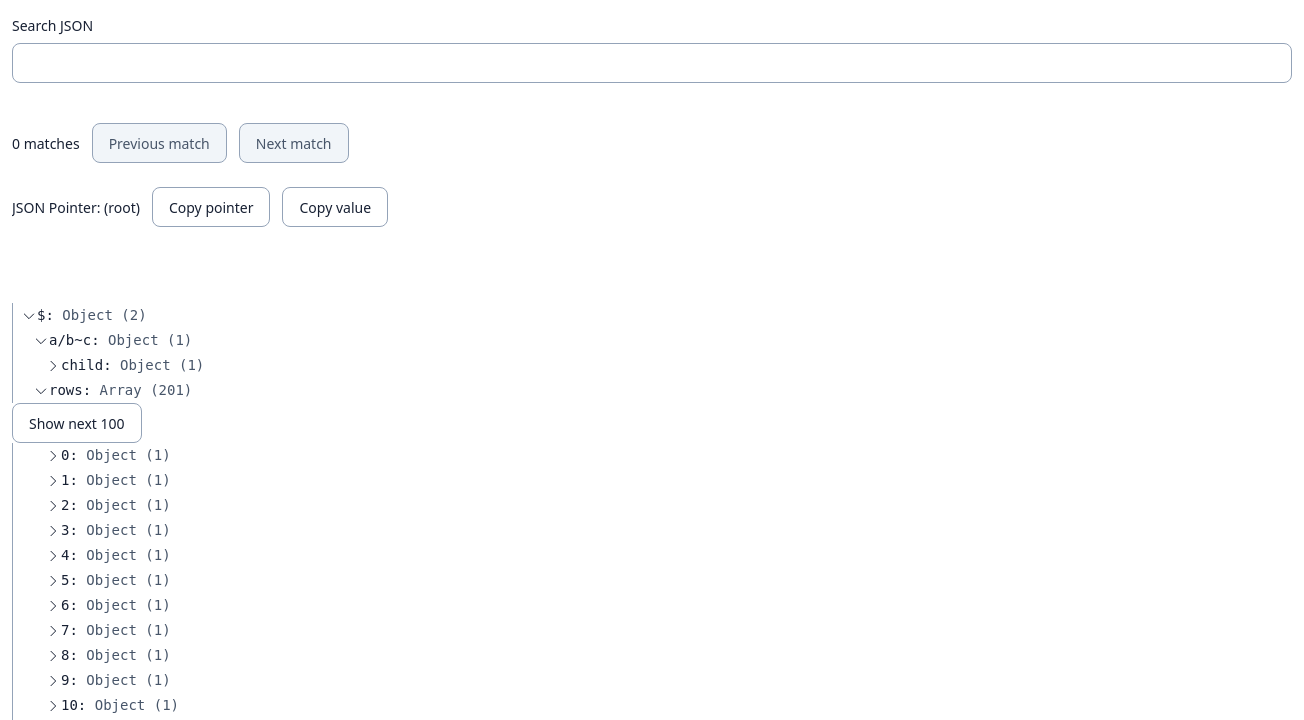
Test case: JsonTree › optionally opens top-level containers while keeping deeper descendants lazy and arrays capped
Click the list item "rows: Array (201)": (652, 390) [12,378,1292,403]
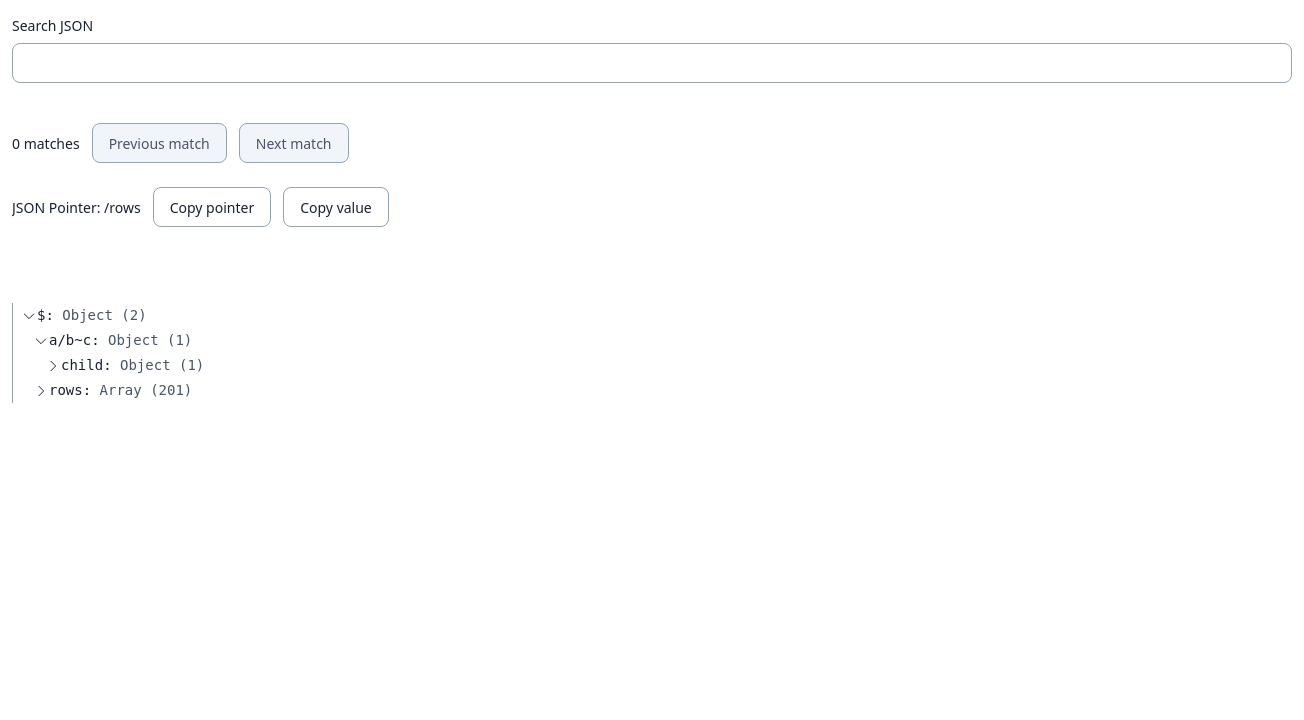
Click the list item "rows: Array (201)": (652, 390) [12,378,1292,403]
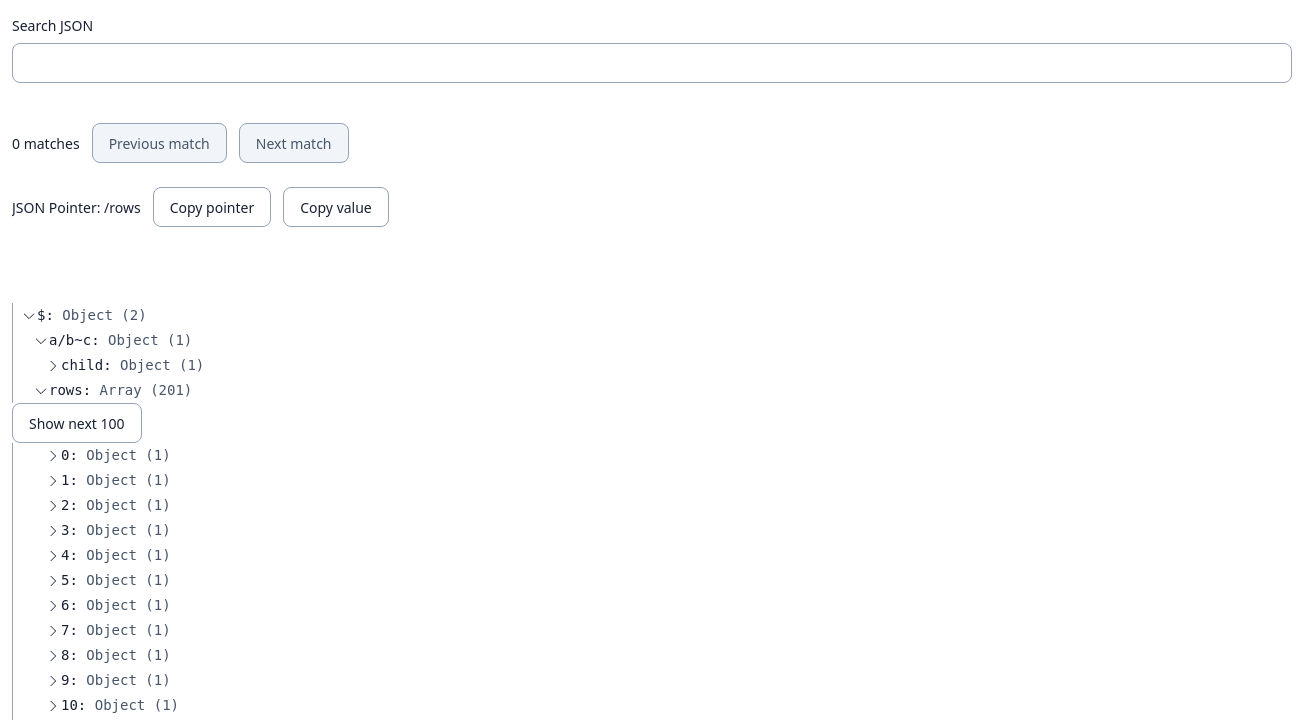
Click the button "Show next 100": (77, 423) [12,403,142,443]
(page scrolled)
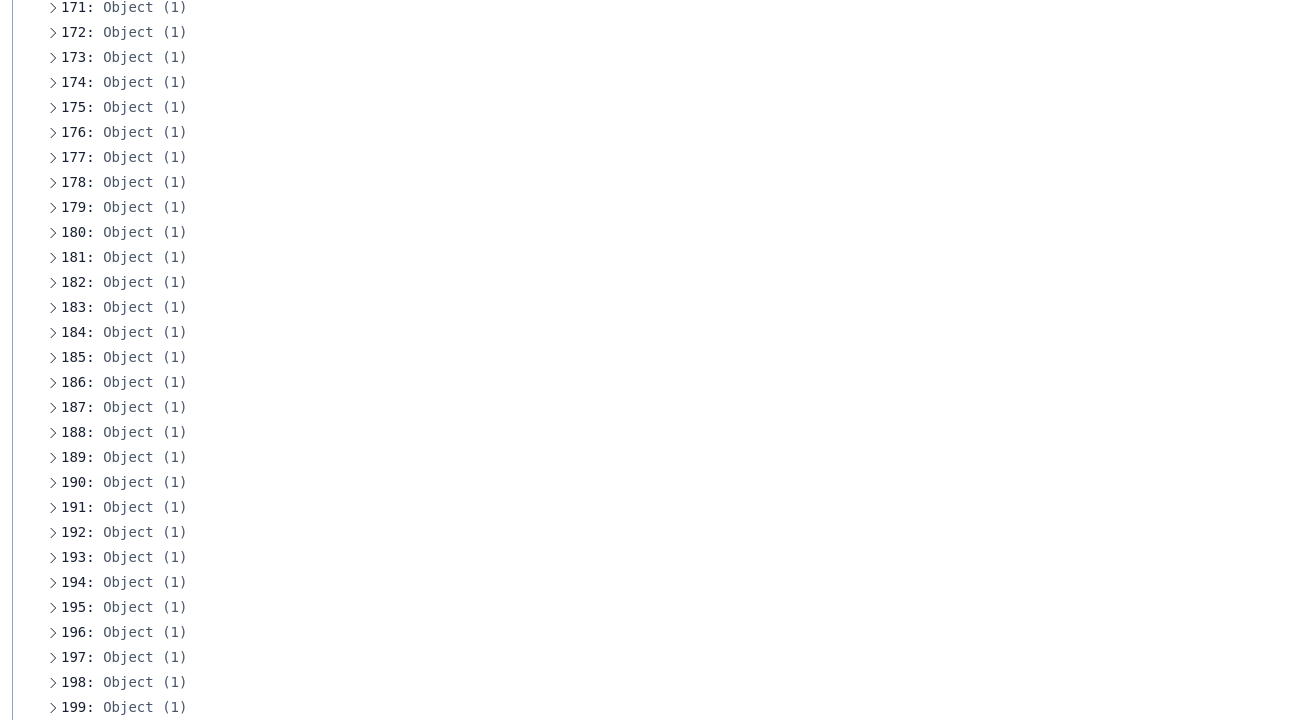
Now the list item "199: Object (1)" is shown, box [12,695,1292,719]
